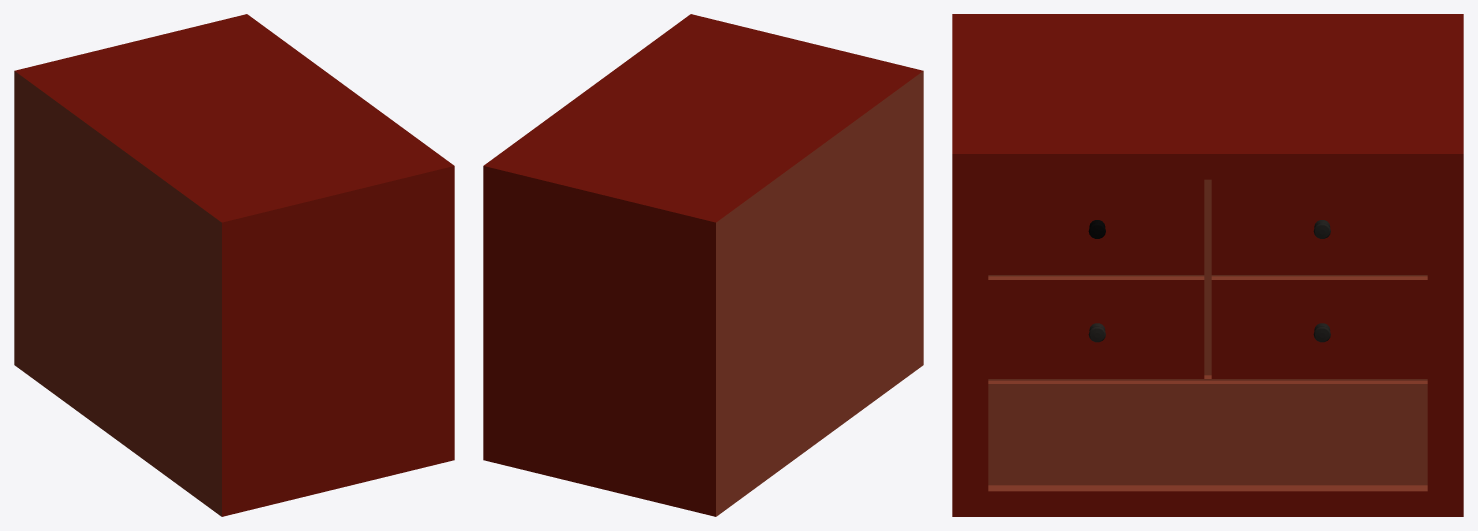
The model's file is side_table.glb.
The picture shows the model from 3 angles, left to right: view 1: azimuth 30°, elevation 25°; view 2: azimuth 150°, elevation 25°; view 3: azimuth 270°, elevation 25°; orthographic projection. The views are drawn at different scales.
Visible parts, largest first — view 1: Cube; view 2: Cube; view 3: Cube.
Part boxes in pixels (x1,y1,x2,y2): Cube: (14, 14, 454, 516); Cube: (483, 14, 923, 516); Cube: (952, 14, 1463, 516).
Bounding box in the file's own units: 0.8828 × 1.07 × 1.36.
